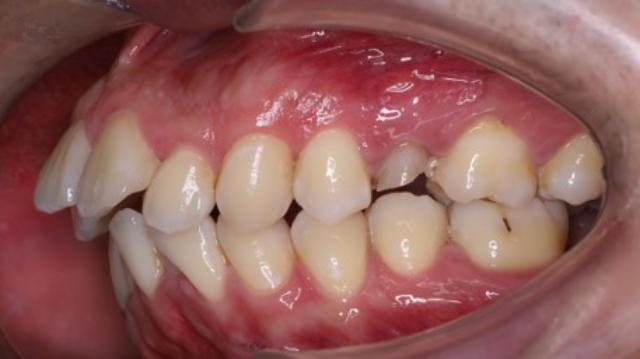canine class II 3/4: (216, 124, 372, 298)
molar class II 3/4: (432, 111, 572, 276)
